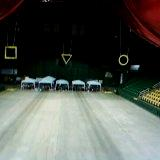Yellow_Circle_GShape: (118, 54, 128, 65)
Yellow_Square_GShape: (4, 45, 17, 59)
Yellow_Triangle_Gshape: (61, 53, 72, 65)
